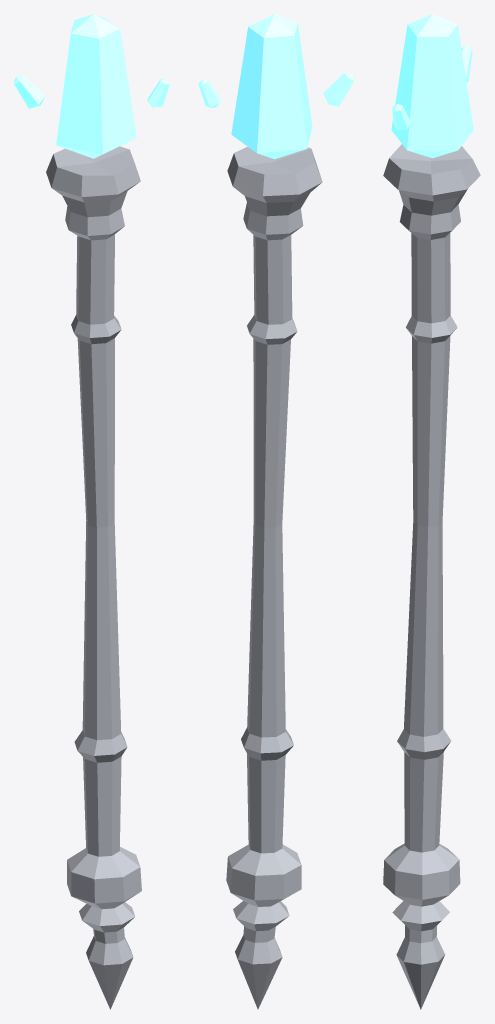
The model's file is IceStaff.glb.
3 renders of one model, left to right at view 1: azimuth 30°, elevation 25°; view 2: azimuth 210°, elevation 25°; view 3: azimuth 270°, elevation 25°, orthographic.
Visible parts, largest first — view 1: IceStaff; view 2: IceStaff; view 3: IceStaff.
Boxes of the visible parts, x1,y1,x2,y2 form: IceStaff: [14, 14, 169, 1009]; IceStaff: [198, 14, 354, 1009]; IceStaff: [383, 14, 480, 1009].
Bounding box in the file's own units: 0.202 × 1.6 × 0.143.
